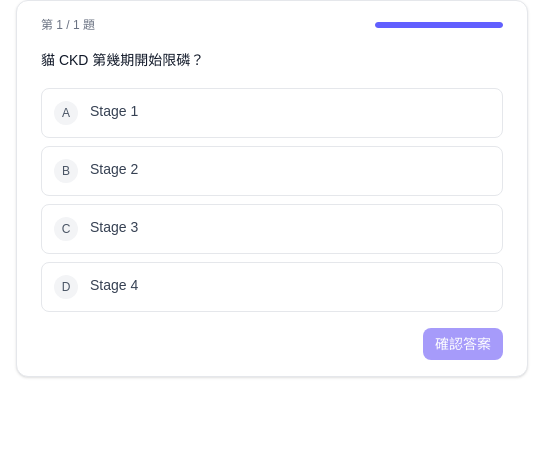
Scenario: QuizEngine › reveals correct answer and explanation after submission
What coordinates should you click on to do the following:
click the radio button with aria-label "選項 B: Stage 2"
I would click on:
 (114, 169)
Its box is left=41, top=146, right=503, bottom=196.
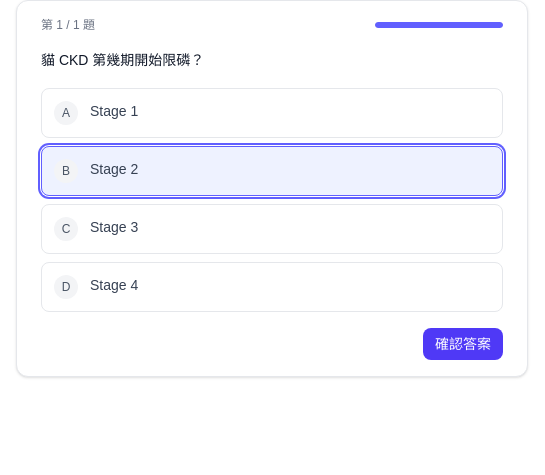
What coordinates should you click on to do the following:
click the button "確認答案"
I would click on:
 (463, 344)
Its box is left=423, top=328, right=503, bottom=360.
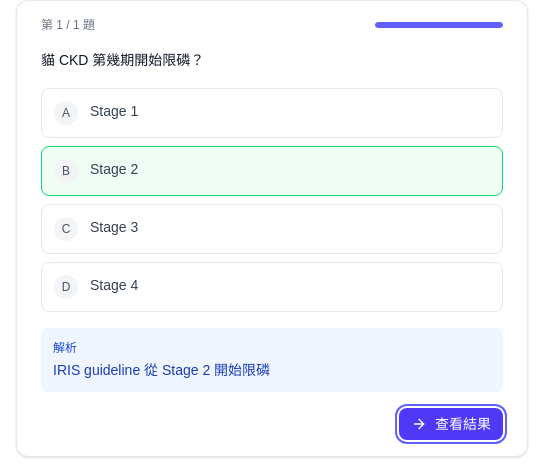
Check: the text "IRIS guideline 從 Stage 2 開始限磷" is shown, box left=53, top=362, right=270, bottom=378
Check: the button "查看結果" is shown, box left=399, top=408, right=503, bottom=440
